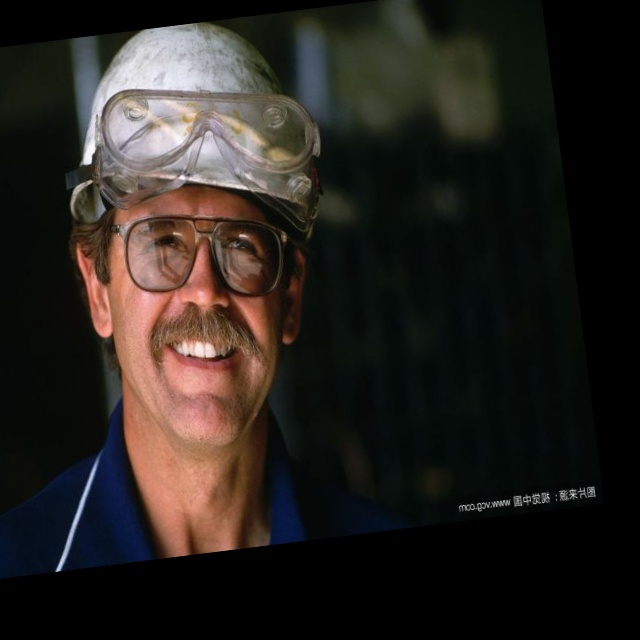Con_Casco: (45, 10, 350, 409)
